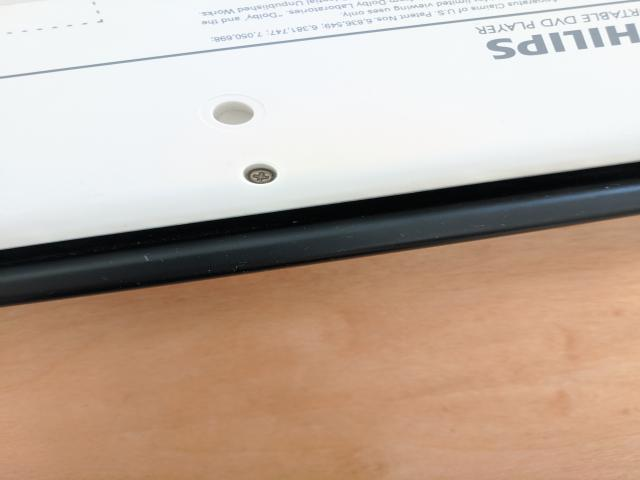CRS: (244, 167, 279, 185)
